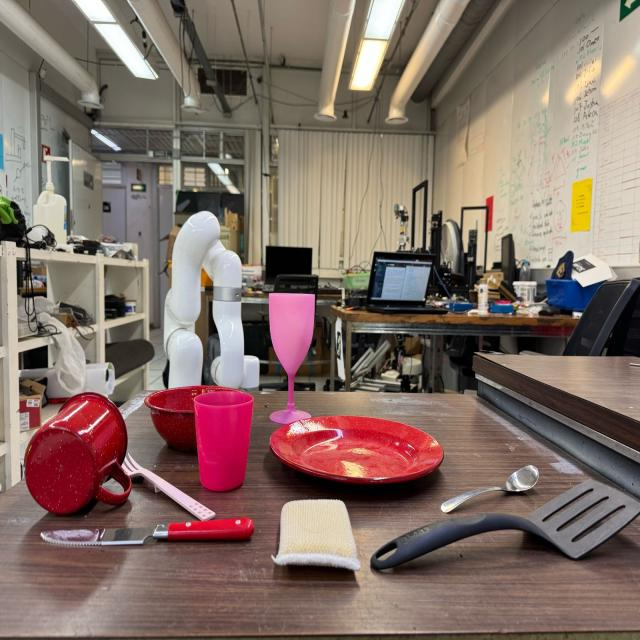cup: (24, 394, 133, 514)
glass: (192, 391, 255, 492)
knife: (42, 518, 258, 548)
plate: (268, 416, 446, 488)
spatula: (370, 479, 638, 574), (121, 451, 217, 520)
sponge: (274, 498, 364, 569)
spoon: (145, 386, 248, 452), (440, 462, 541, 514)
